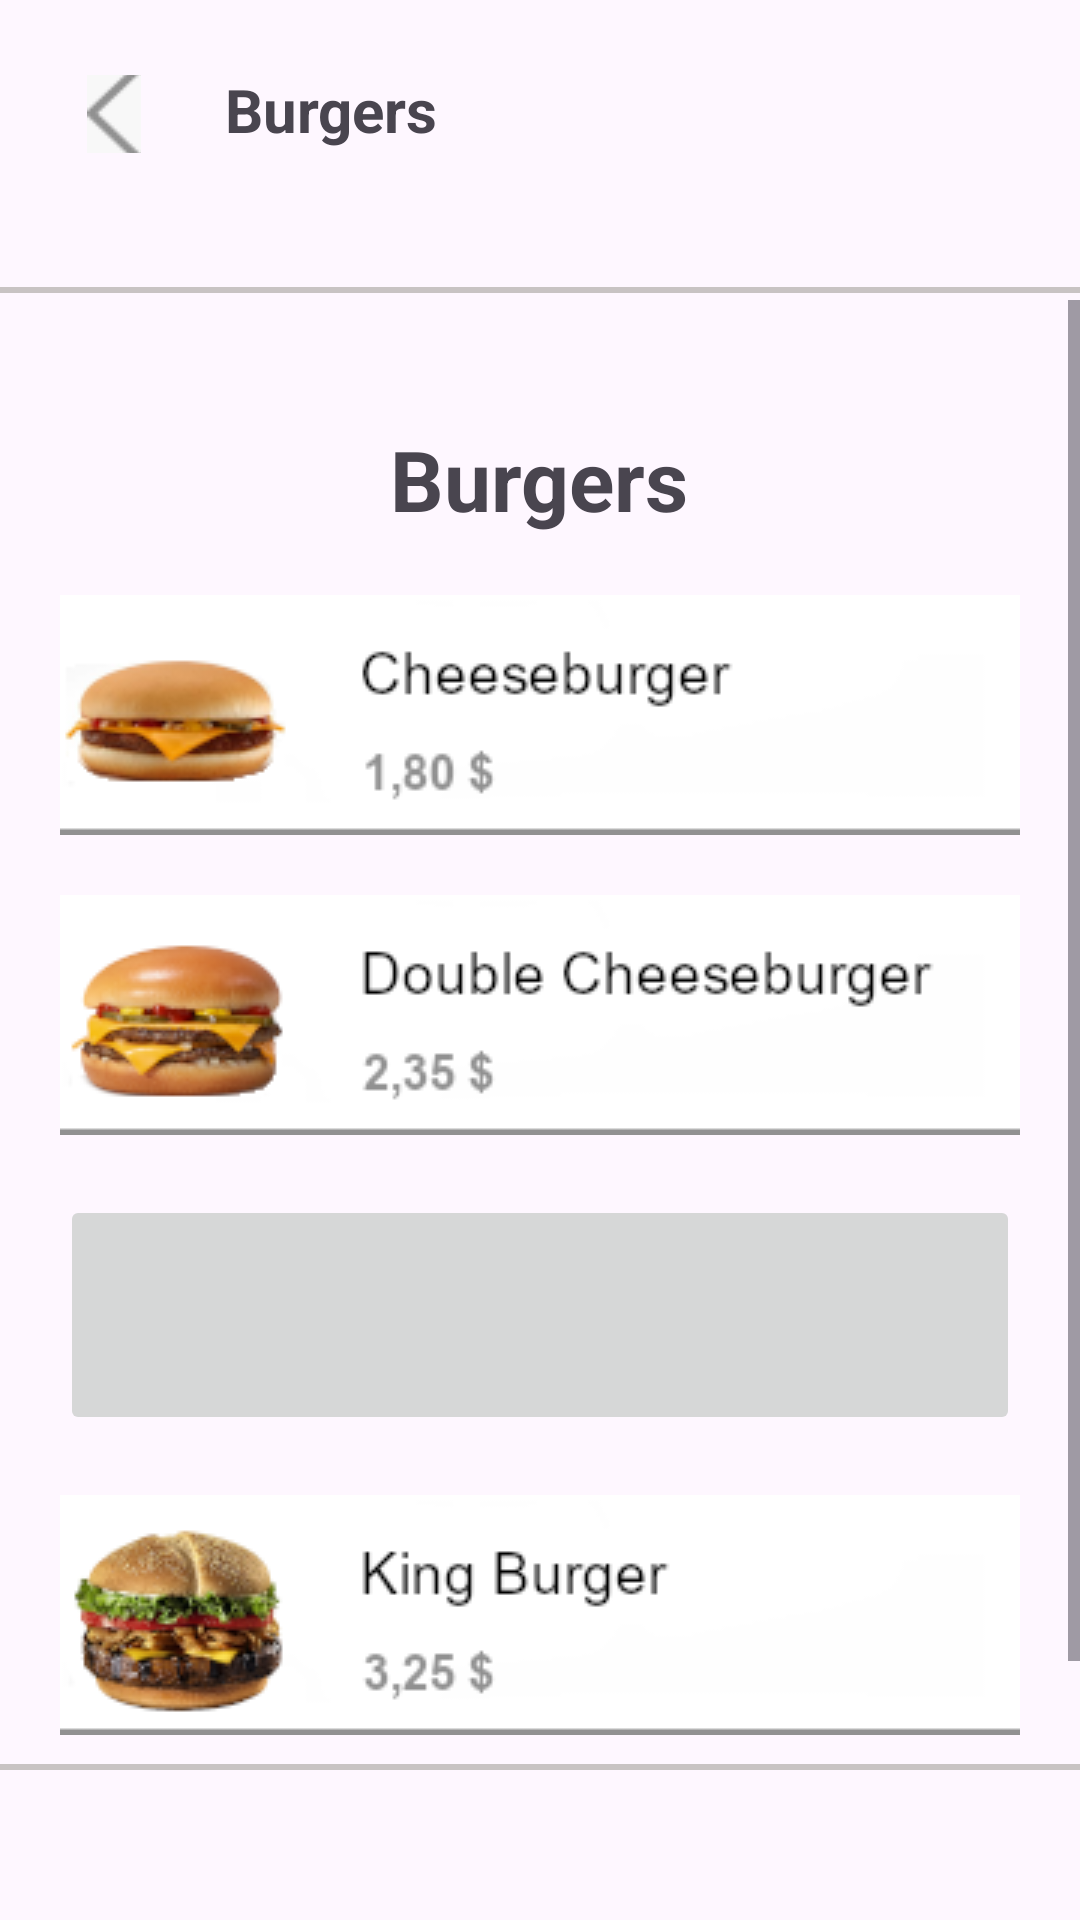

Screen size 1080px×1920px. Icon name, then its box in pixels as bbox(x1, y1, x2, y2):
back: bbox(87, 75, 141, 153)
